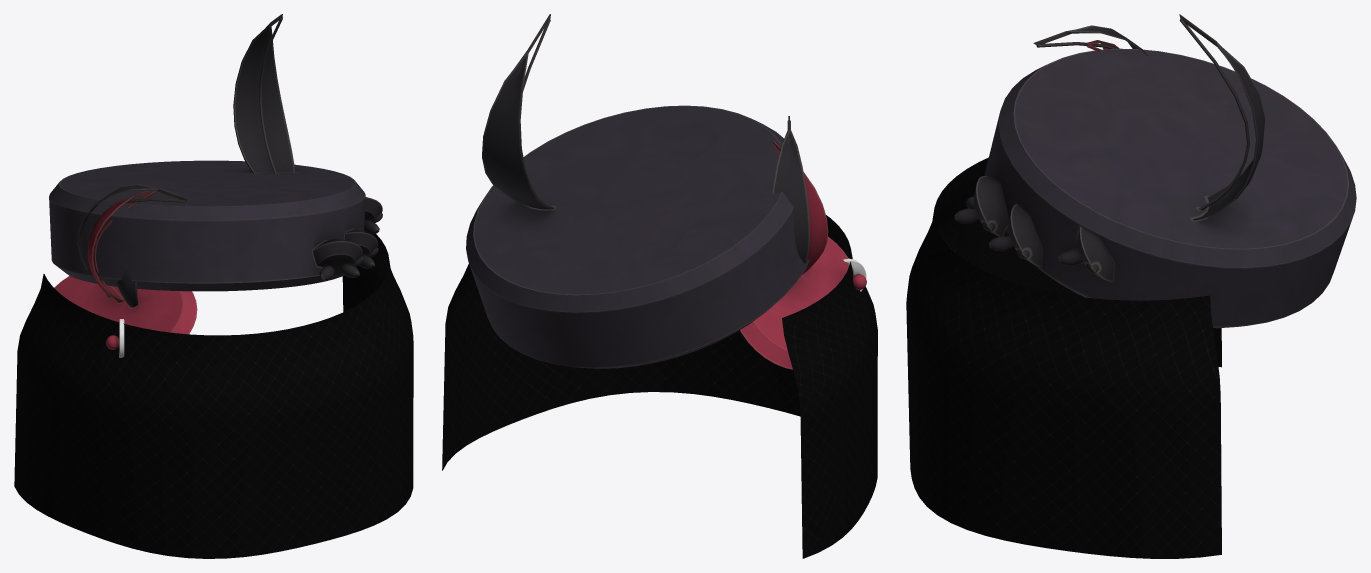
The model's file is NHAcc_MourningHats.fbx.
The picture shows the model from 3 angles, left to right: view 1: azimuth 30°, elevation 25°; view 2: azimuth 150°, elevation 25°; view 3: azimuth 270°, elevation 25°; orthographic projection. The views are drawn at different scales.
Parts seen in each view (by area): view 1: MourningVeil, MourningToque, Fascinator; view 2: MourningToque, MourningVeil, Fascinator; view 3: MourningVeil, MourningToque, FascVeil, Fascinator.
Part boxes in pixels (x1,y1,x2,y2): MourningVeil: [14, 231, 413, 558]; MourningToque: [49, 14, 382, 291]; Fascinator: [54, 184, 197, 357]; MourningToque: [466, 14, 809, 368]; MourningVeil: [442, 215, 877, 558]; Fascinator: [740, 116, 866, 369]; MourningVeil: [906, 157, 1221, 558]; MourningToque: [954, 14, 1356, 328]; FascVeil: [956, 219, 1079, 295]; Fascinator: [1033, 25, 1148, 55].
Bounding box in the file's own units: 1.61 × 1.89 × 1.56.
